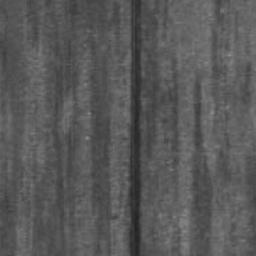Scratches: (129, 0, 141, 256)
